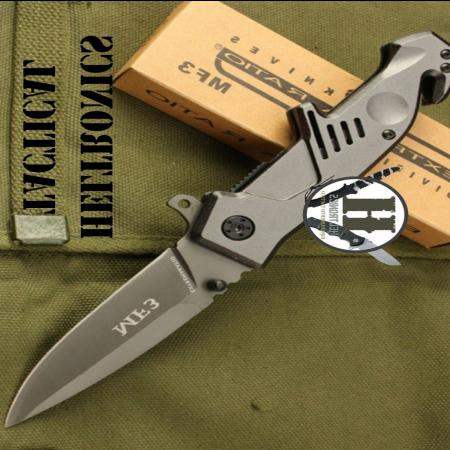long weapon: (1, 244, 250, 436)
